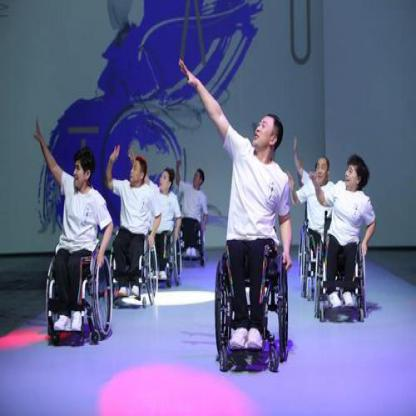wheelchair: (191, 87, 294, 375), (37, 138, 113, 338), (306, 152, 374, 326), (103, 145, 160, 311), (290, 150, 344, 300), (133, 154, 181, 290), (176, 157, 208, 266)
